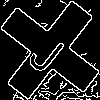J: (25, 25, 74, 77)
